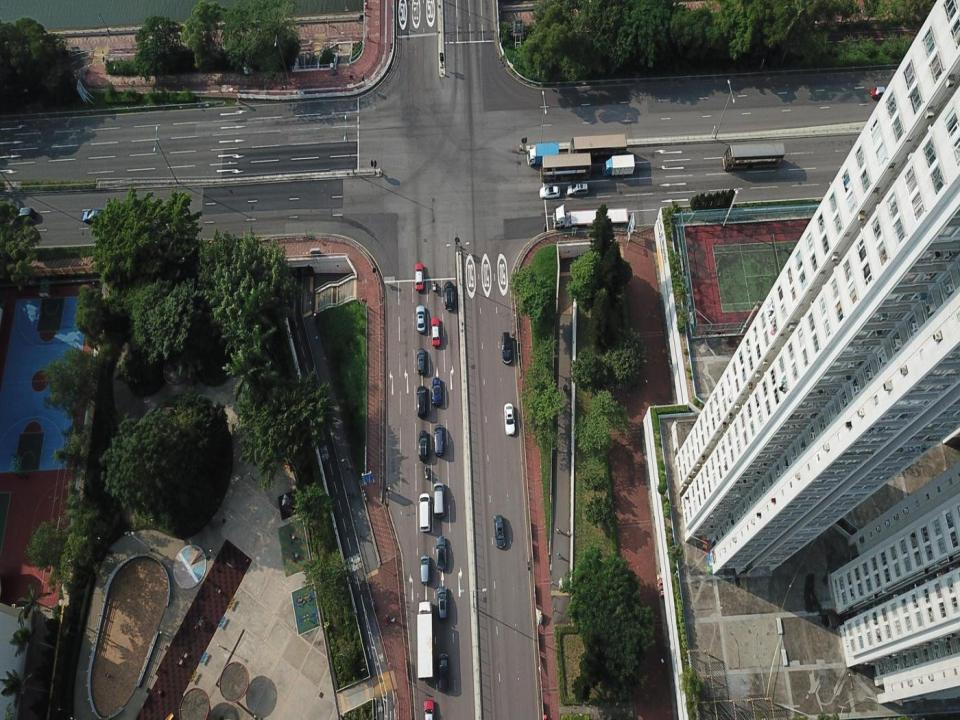bus: (722, 141, 785, 171), (568, 132, 627, 160), (540, 152, 592, 182)
car: (437, 652, 450, 692), (493, 515, 506, 549), (503, 402, 516, 436), (82, 208, 107, 224), (436, 536, 447, 572), (416, 386, 428, 419), (13, 206, 36, 223), (437, 586, 448, 621), (443, 280, 455, 312), (418, 428, 429, 462), (501, 330, 512, 364), (419, 554, 431, 584), (430, 317, 442, 346), (431, 377, 442, 408), (415, 304, 426, 334), (538, 185, 561, 199), (566, 182, 589, 196), (416, 347, 427, 376), (414, 262, 424, 292), (869, 85, 889, 99), (423, 699, 436, 719)
truck: (552, 204, 629, 230), (416, 600, 434, 679), (526, 141, 560, 167), (601, 152, 636, 176)
van: (417, 492, 432, 532), (431, 482, 445, 518), (434, 423, 444, 457)
